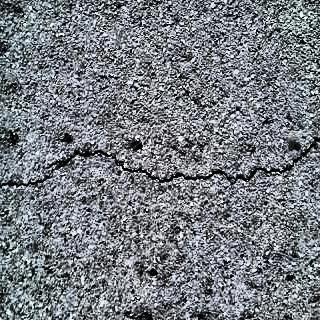crack: (2, 127, 320, 208)
